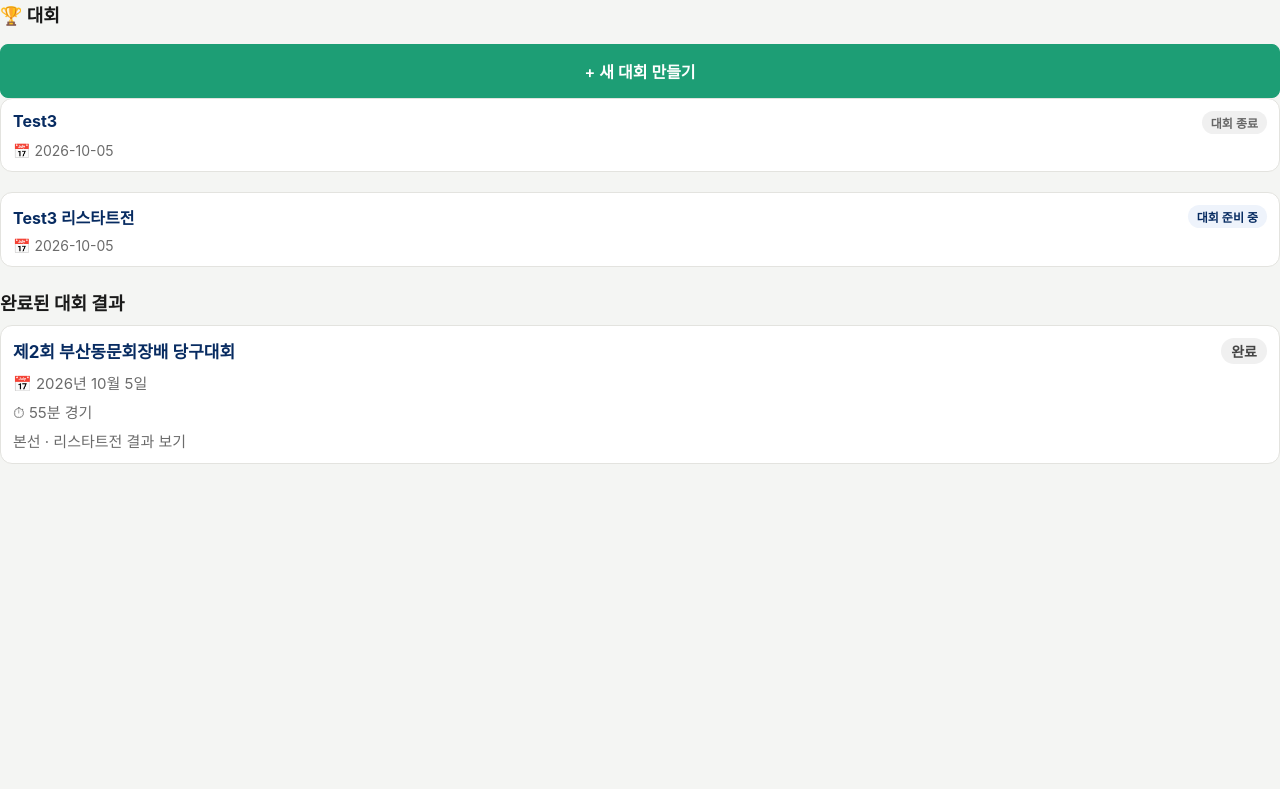
it: 경기결과 공유 — 관리자 화면 › 관리자 본선 화면에 "경기결과 공유"가 있고, 열면 마스터즈 1~4위와 리스타트 1·2위가 카드에 나온다
Click the text "Test3".
click(35, 121)  # box [13,111,57,131]
(page scrolled)
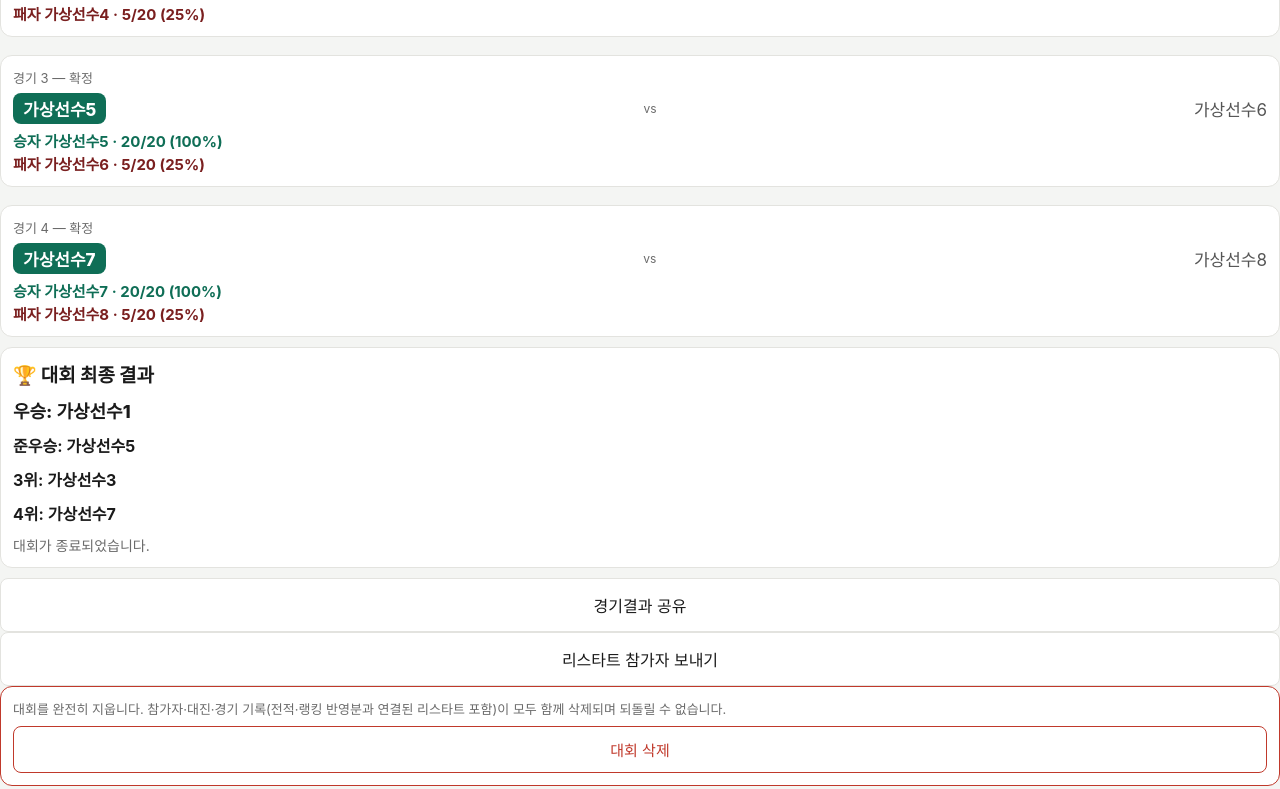
Click the button "경기결과 공유".
click(640, 605)  # box [0,578,1279,632]
(page scrolled)
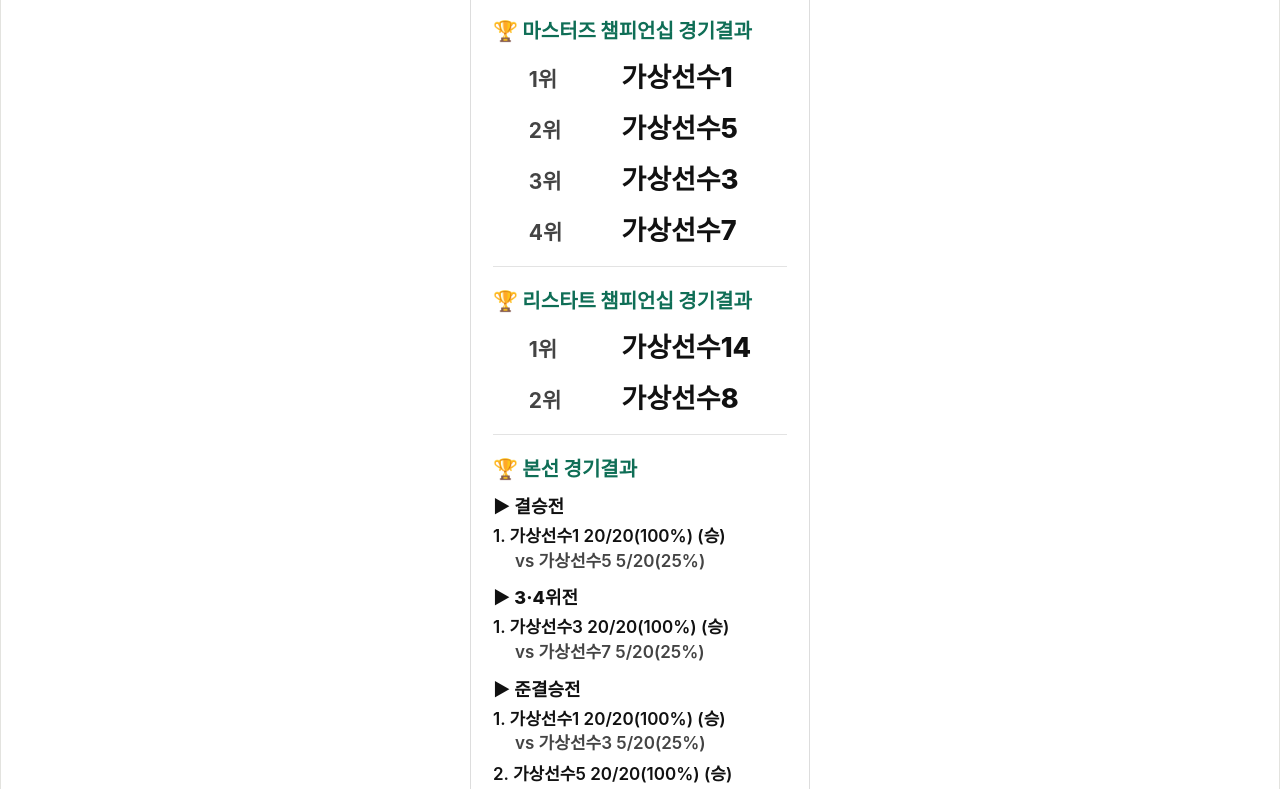
Now the text "🏆 마스터즈 챔피언십 경기결과" is shown, box [493,15,787,44]
Now the text "🏆 리스타트 챔피언십 경기결과" is shown, box [493,285,787,314]
Now the text "1위" below "마스터즈 챔피언십 경기결과" is shown, box [529,67,557,92]
